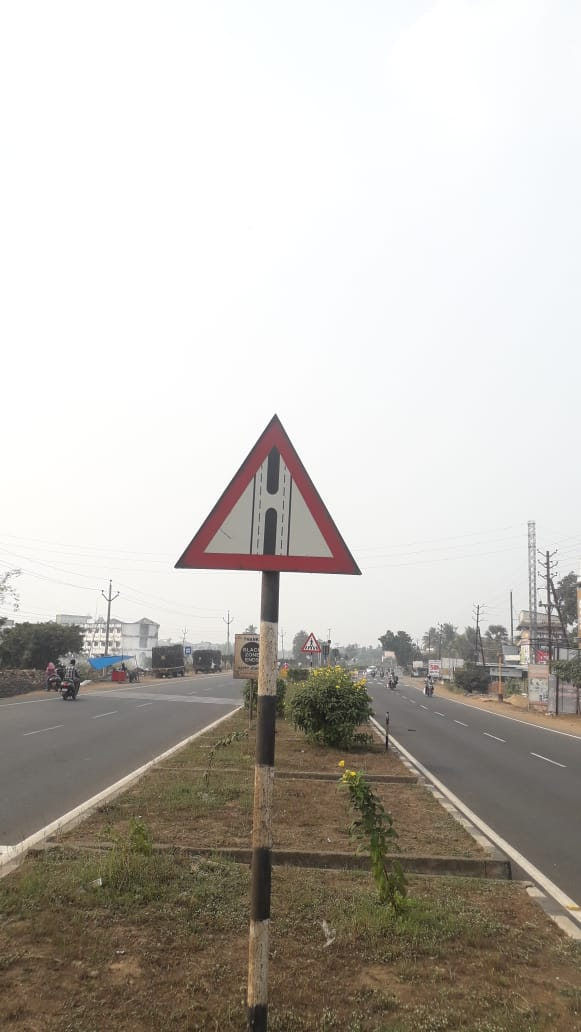highway go straight: (156, 411, 383, 585)
